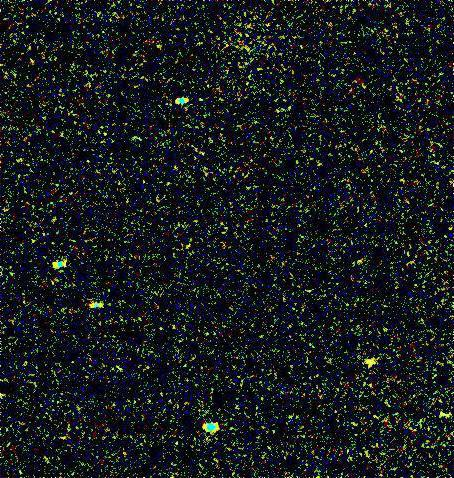star: (355, 354, 385, 384)
